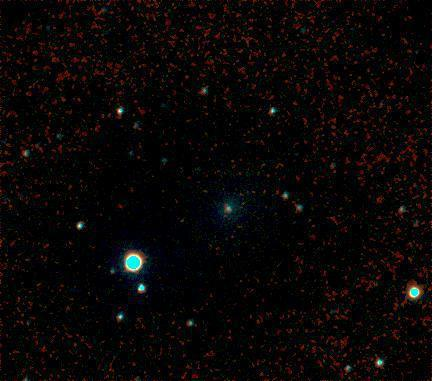star: (156, 59, 186, 89)
